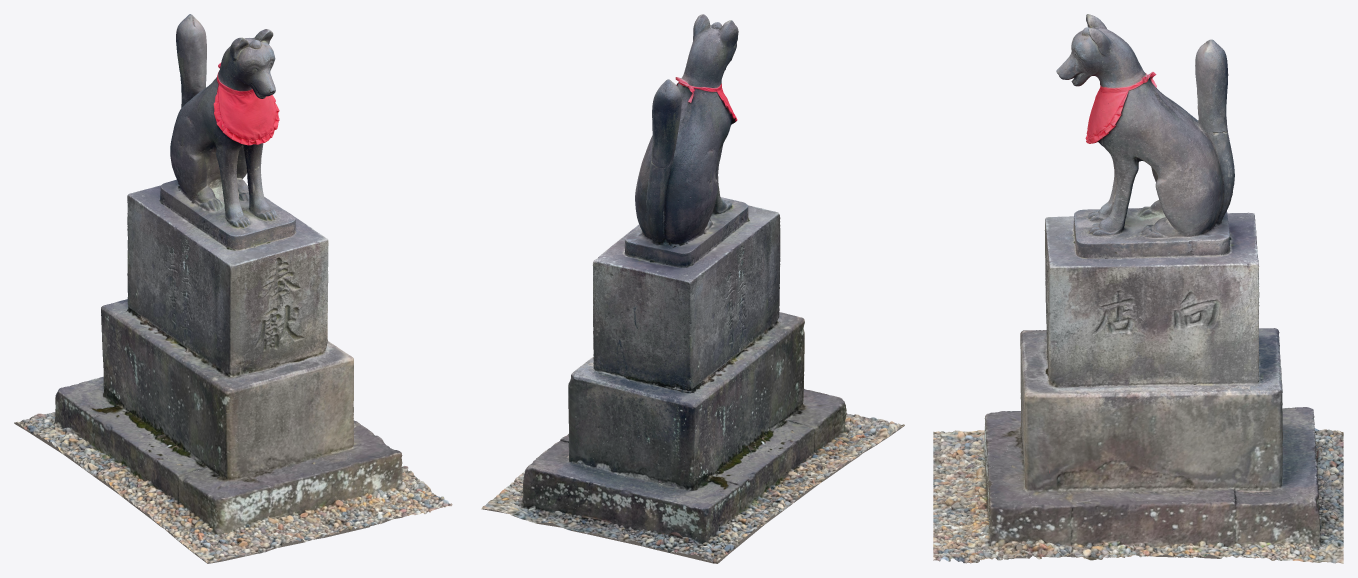
File: loboGirl_optimized.glb
The picture shows the model from 3 angles, left to right: view 1: azimuth 30°, elevation 25°; view 2: azimuth 150°, elevation 25°; view 3: azimuth 270°, elevation 25°; orthographic projection. The views are drawn at different scales.
Parts seen in each view (by area): view 1: Object_10, Object_14; view 2: Object_14, Object_10; view 3: Object_10, Object_14.
Boxes of the visible parts, left/top/right/bottom form: Object_10: left=14, top=17, right=451, bottom=563; Object_14: left=16, top=14, right=452, bottom=556; Object_14: left=481, top=14, right=894, bottom=563; Object_10: left=481, top=14, right=904, bottom=563; Object_10: left=933, top=14, right=1343, bottom=563; Object_14: left=933, top=14, right=1343, bottom=563.
Bounding box in the file's own units: 0.2409 × 0.4254 × 0.3295.
2 materials, 2 textured.
